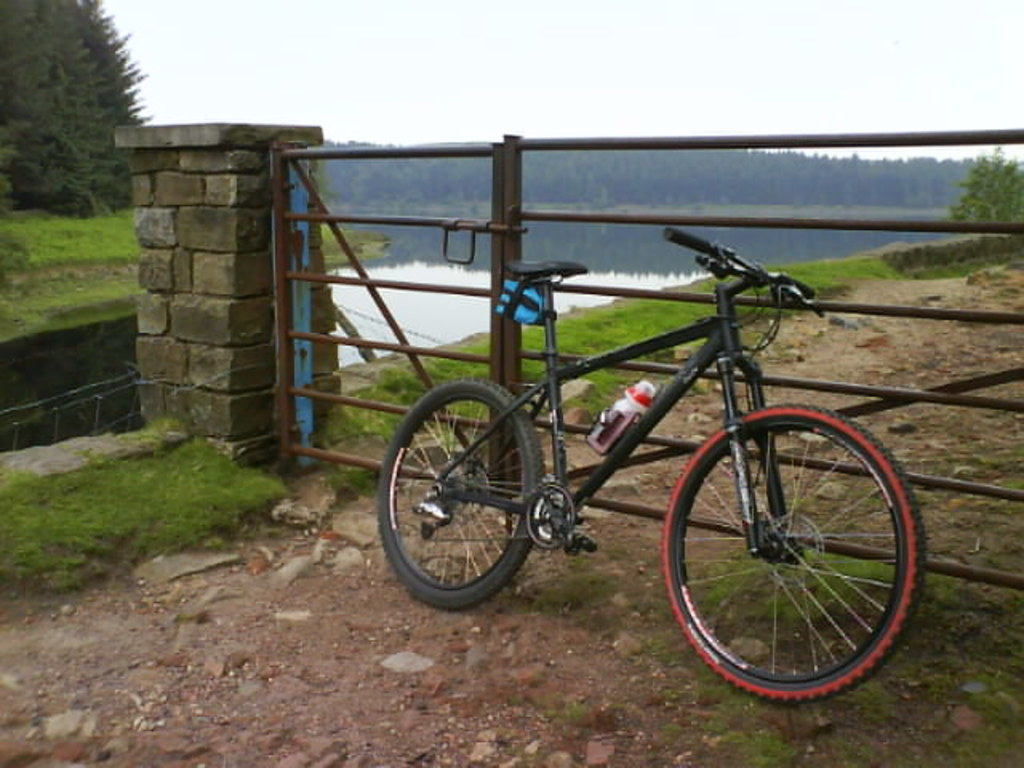Bike_toward: (364, 260, 898, 656)
